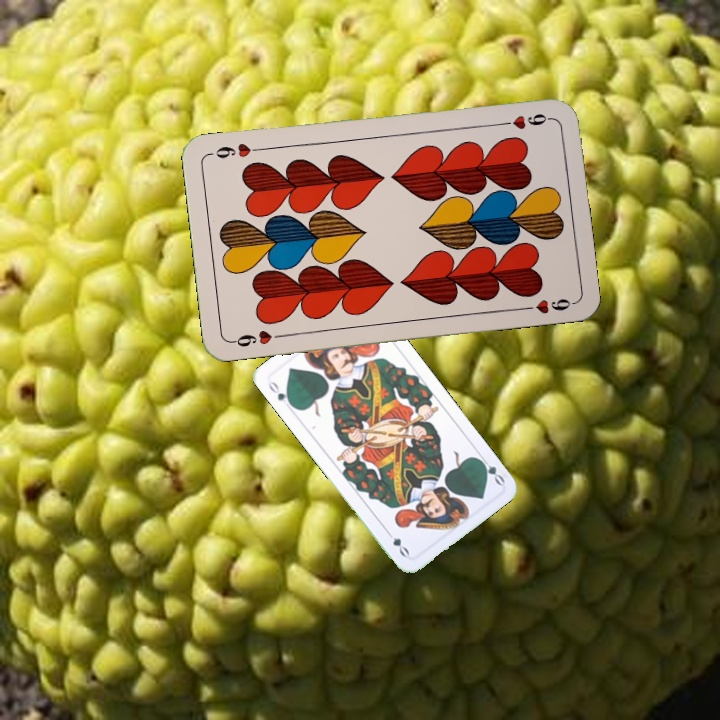GO: (474, 452, 507, 488), (264, 377, 296, 410)
H9: (227, 326, 286, 350), (494, 110, 553, 132)
